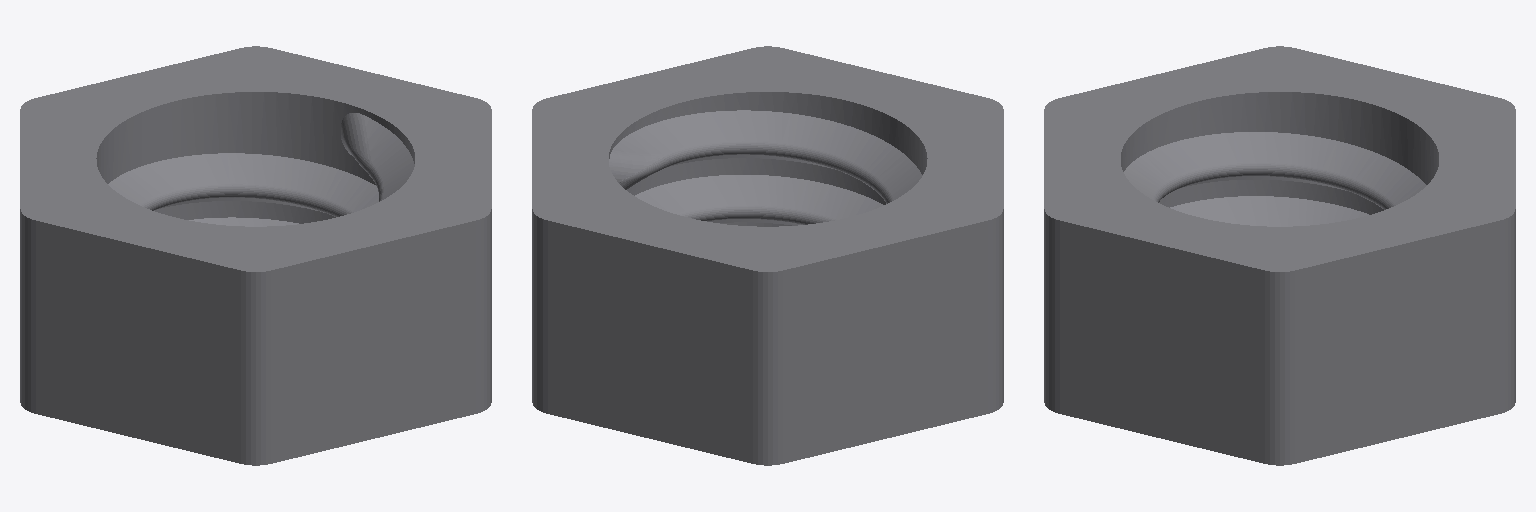
The robot description file, URDF, robot "cb_fst_nut_s150":
<?xml version="1.0"?>
<!-- ContactBench fst_nut_s150. Generated by FoundationTouch tools/contactbench/make_contactbench_assets.py -->
<robot name="cb_fst_nut_s150">
  <material name="c"><color rgba="0.55 0.55 0.57 1.0"/></material>
  <link name="object">
    <visual><origin xyz="0 0 0" rpy="0 0 0"/><geometry><mesh filename="fst_nut_s150.obj" scale="1 1 1"/></geometry><material name="c"/></visual>
    <collision><origin xyz="0 0 0" rpy="0 0 0"/><geometry><mesh filename="coll_00.obj" scale="1 1 1"/></geometry></collision>
    <collision><origin xyz="0 0 0" rpy="0 0 0"/><geometry><mesh filename="coll_01.obj" scale="1 1 1"/></geometry></collision>
    <collision><origin xyz="0 0 0" rpy="0 0 0"/><geometry><mesh filename="coll_02.obj" scale="1 1 1"/></geometry></collision>
    <collision><origin xyz="0 0 0" rpy="0 0 0"/><geometry><mesh filename="coll_03.obj" scale="1 1 1"/></geometry></collision>
    <collision><origin xyz="0 0 0" rpy="0 0 0"/><geometry><mesh filename="coll_04.obj" scale="1 1 1"/></geometry></collision>
    <collision><origin xyz="0 0 0" rpy="0 0 0"/><geometry><mesh filename="coll_05.obj" scale="1 1 1"/></geometry></collision>
    <collision><origin xyz="0 0 0" rpy="0 0 0"/><geometry><mesh filename="coll_06.obj" scale="1 1 1"/></geometry></collision>
    <collision><origin xyz="0 0 0" rpy="0 0 0"/><geometry><mesh filename="coll_07.obj" scale="1 1 1"/></geometry></collision>
    <collision><origin xyz="0 0 0" rpy="0 0 0"/><geometry><mesh filename="coll_08.obj" scale="1 1 1"/></geometry></collision>
    <collision><origin xyz="0 0 0" rpy="0 0 0"/><geometry><mesh filename="coll_09.obj" scale="1 1 1"/></geometry></collision>
    <inertial><mass value="0.002407"/><origin xyz="0 0 0" rpy="0 0 0"/><inertia ixx="1.435318e-07" ixy="5.389437e-15" ixz="-1.506918e-14" iyy="1.440394e-07" iyz="7.208281e-10" izz="2.448452e-07"/></inertial>
  </link>
</robot>

--- Facts derived from the render (not from the file) ---
Views: 3 orthographic renders of the robot side by side, from view 1: azimuth 30°, elevation 25°; view 2: azimuth 150°, elevation 25°; view 3: azimuth 270°, elevation 25°.
Model cb_fst_nut_s150 with 1 links and 0 joints (none), rooted at object, posed every joint at zero.
Links seen in each view (by area): view 1: object; view 2: object; view 3: object.
Link boxes in pixels (<box>): object: <box>20,46,491,465</box>; object: <box>532,46,1003,465</box>; object: <box>1044,46,1515,465</box>.
Bounding box of the posed robot: 0.0264 × 0.0232 × 0.0105 m (x, y, z).
Meshes: 1 distinct files referenced, 1 mesh visuals loaded (1 OBJ).
